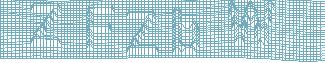F: (83, 2, 116, 53)
W: (225, 1, 277, 50)
Z: (124, 8, 161, 56), (27, 1, 63, 49)
b: (171, 6, 200, 56)
